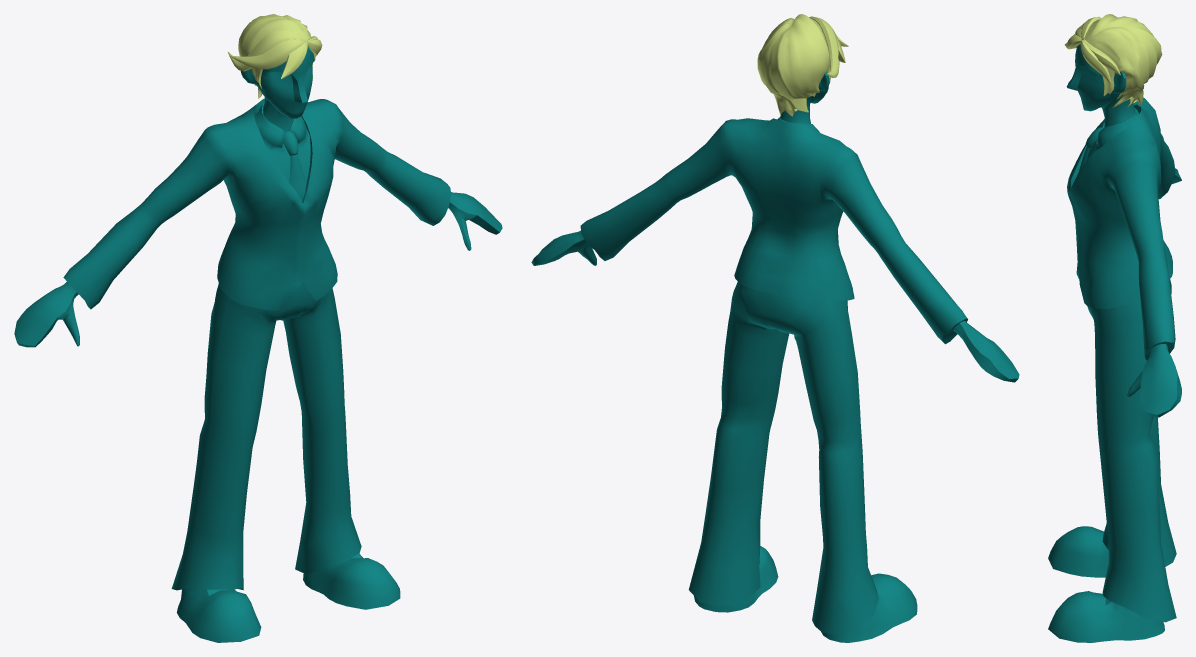
The model's file is Presenter_Low.fbx.
3 renders of one model, left to right at view 1: azimuth 30°, elevation 25°; view 2: azimuth 150°, elevation 25°; view 3: azimuth 270°, elevation 25°, orthographic.
Parts seen in each view (by area): view 1: NPC_pants_low, NPC_blazer_low, NPC_shoe_low, NPC_body_low, NPC_shirt_low, NPC_hairbase_low, NPC_hairstrand4_low, NPC_tie_low, NPC_hairstrand5_low; view 2: NPC_pants_low, NPC_blazer_low, NPC_hairbase_low, NPC_shoe_low, NPC_body_low; view 3: NPC_pants_low, NPC_blazer_low, NPC_shoe_low, NPC_body_low, NPC_hairbase_low, NPC_shirt_low, NPC_hairstrand2_low, NPC_hairstrand3_low, NPC_tie_low.
Boxes of the visible parts, bbox=[...] form: NPC_pants_low: bbox=[171, 282, 361, 590]; NPC_blazer_low: bbox=[63, 98, 451, 310]; NPC_shoe_low: bbox=[177, 553, 400, 642]; NPC_body_low: bbox=[14, 46, 502, 347]; NPC_shirt_low: bbox=[254, 103, 310, 182]; NPC_hairbase_low: bbox=[238, 14, 312, 98]; NPC_hairstrand4_low: bbox=[230, 38, 305, 69]; NPC_tie_low: bbox=[283, 131, 306, 201]; NPC_hairstrand5_low: bbox=[228, 30, 307, 71]; NPC_pants_low: bbox=[688, 281, 878, 634]; NPC_blazer_low: bbox=[580, 118, 967, 344]; NPC_hairbase_low: bbox=[757, 14, 830, 116]; NPC_shoe_low: bbox=[694, 546, 917, 642]; NPC_body_low: bbox=[531, 58, 1019, 382]; NPC_pants_low: bbox=[1087, 279, 1176, 622]; NPC_blazer_low: bbox=[1067, 97, 1175, 360]; NPC_shoe_low: bbox=[1048, 526, 1164, 642]; NPC_body_low: bbox=[1066, 44, 1181, 417]; NPC_hairbase_low: bbox=[1085, 14, 1162, 107]; NPC_shirt_low: bbox=[1087, 108, 1138, 159]; NPC_hairstrand2_low: bbox=[1080, 40, 1111, 84]; NPC_hairstrand3_low: bbox=[1084, 40, 1120, 75]; NPC_tie_low: bbox=[1077, 127, 1102, 174].
Size of the model in its own units: 149 by 174 by 36.26.
